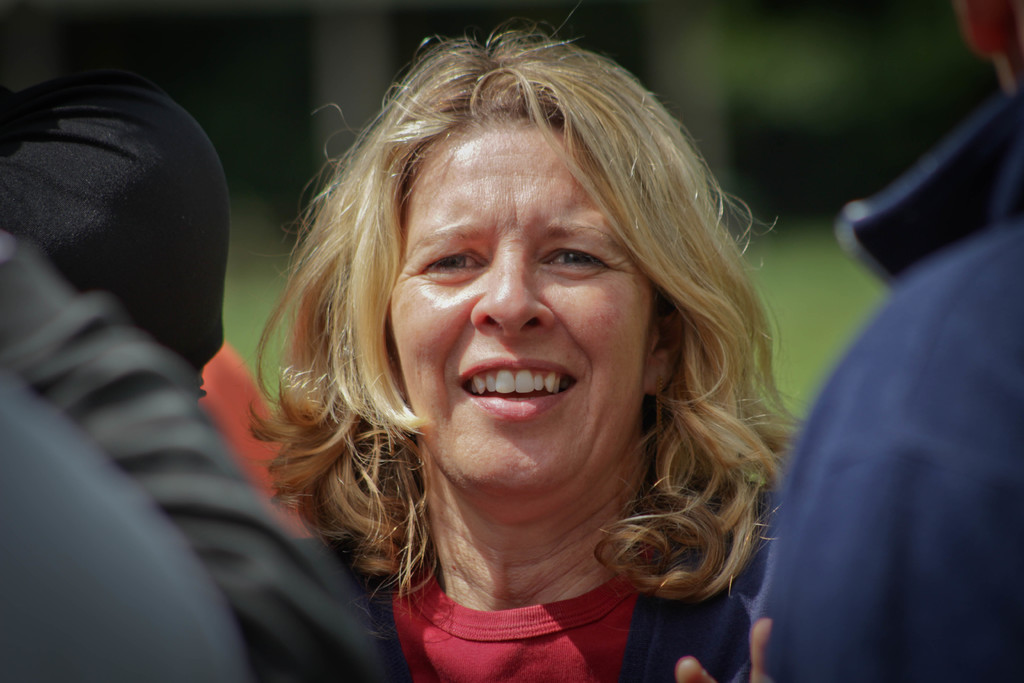Human-face: (390, 120, 654, 486)
